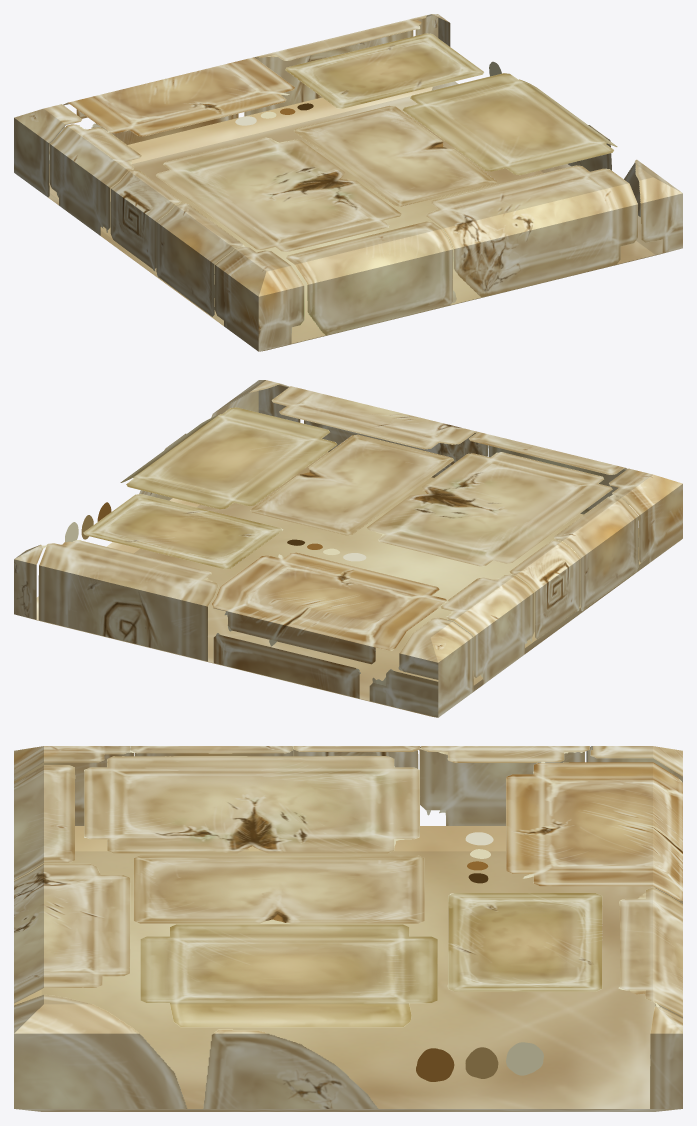
The model's file is doodad_tutorial_brick1.fbx.
3 renders of one model, top to bottom at view 1: azimuth 30°, elevation 25°; view 2: azimuth 150°, elevation 25°; view 3: azimuth 270°, elevation 25°, orthographic. The views are drawn at different scales.
Parts seen in each view (by area): view 1: doodad_brick_component_square_large_mesh; view 2: doodad_brick_component_square_large_mesh; view 3: doodad_brick_component_square_large_mesh.
Part boxes in pixels (bbox=[...]): doodad_brick_component_square_large_mesh: bbox=[14, 14, 682, 351]; doodad_brick_component_square_large_mesh: bbox=[14, 380, 682, 717]; doodad_brick_component_square_large_mesh: bbox=[14, 746, 682, 1111].
Bounding box in the file's own units: 2 × 0.3514 × 2.
